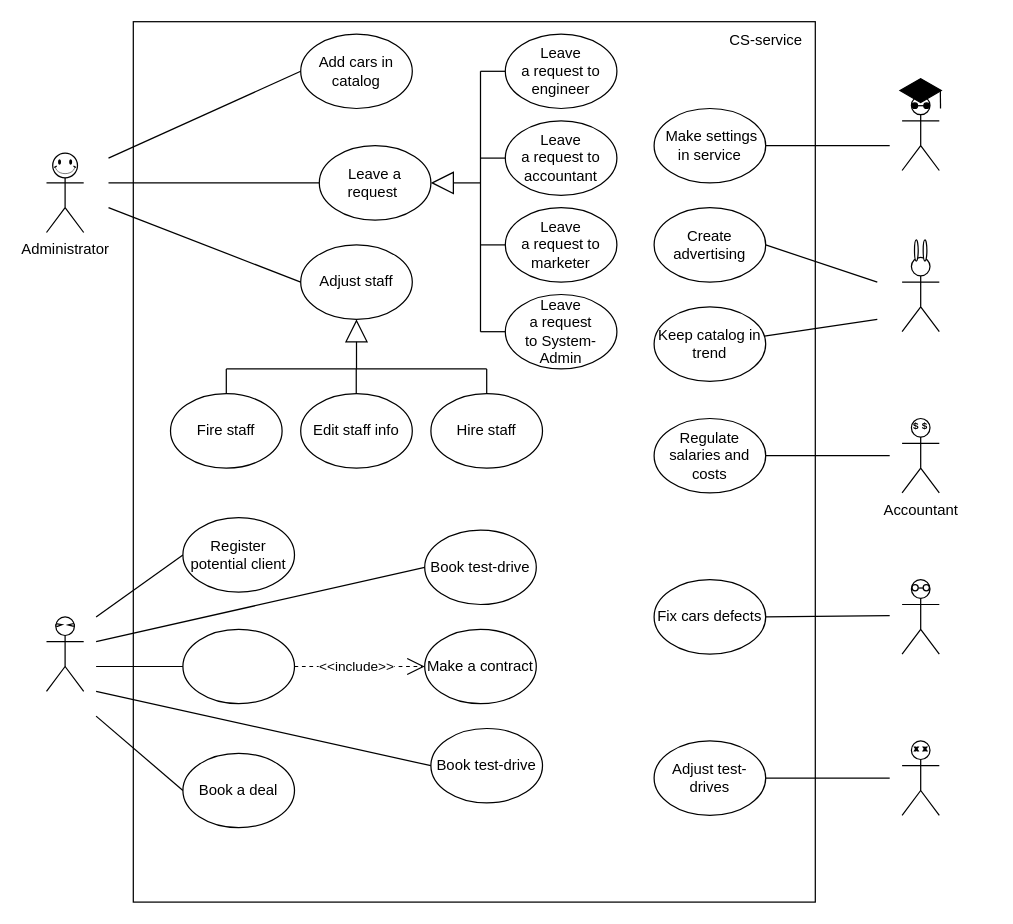
Some shapes in this 1013 by 924 pixel diagram are drawn without their labels. Here are the shapes that lost their labels. From the top down, the centre of each, then its label:
At [920,132]: "System-Administrator".
At [920,294]: "Marketer".
At [920,616]: "Engineer".
At [64,653]: "Seller".
At [238,666]: "Register client".
At [920,777]: "Test-Driver".
